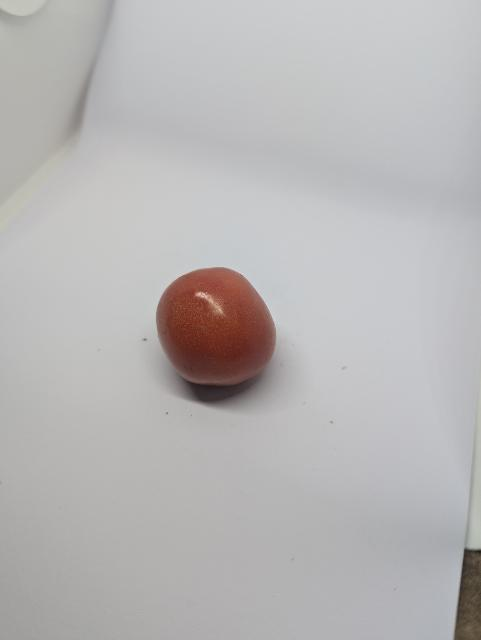red: (153, 262, 286, 395)
